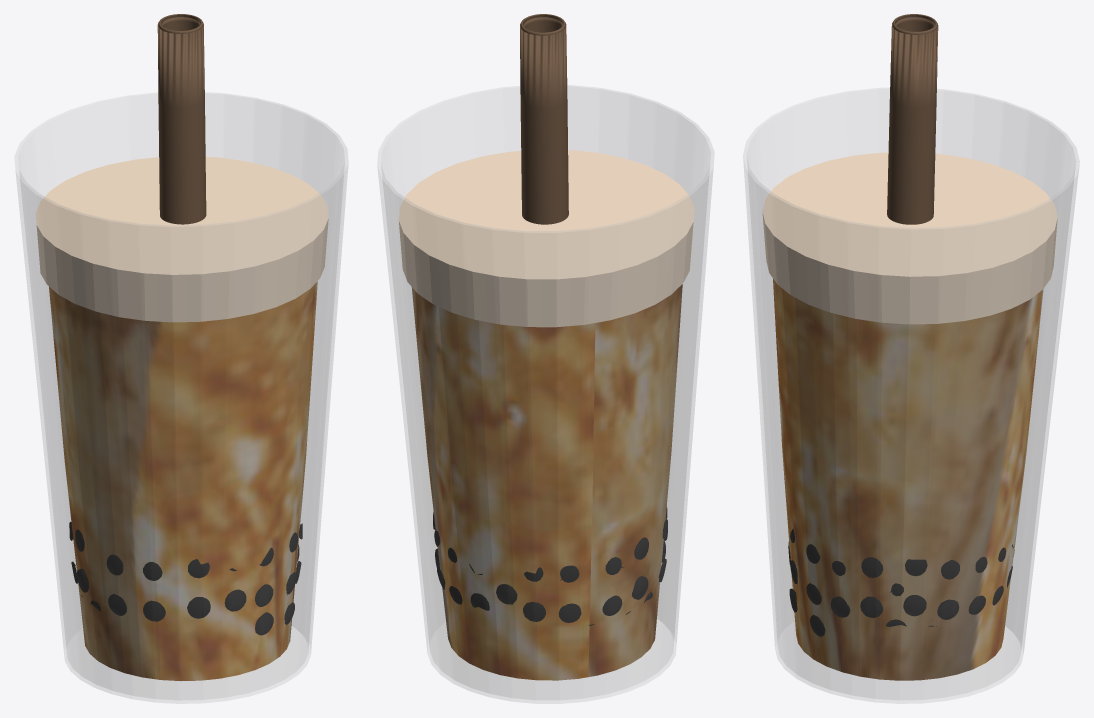
File: brown sugar milk tea.fbx
3 renders of one model, left to right at view 1: azimuth 30°, elevation 25°; view 2: azimuth 150°, elevation 25°; view 3: azimuth 270°, elevation 25°, orthographic.
Visible parts, largest first — view 1: Cup_01_Boba_Cup_Plastic_01_0.010; view 2: Cup_01_Boba_Cup_Plastic_01_0.010; view 3: Cup_01_Boba_Cup_Plastic_01_0.010.
Part boxes in pixels (x1,y1,x2,y2): Cup_01_Boba_Cup_Plastic_01_0.010: [14, 14, 348, 703]; Cup_01_Boba_Cup_Plastic_01_0.010: [377, 14, 714, 703]; Cup_01_Boba_Cup_Plastic_01_0.010: [743, 14, 1079, 703].
Bounding box in the file's own units: 91.47 × 189 × 91.44.
Materials: 5 (1 with a texture image).
